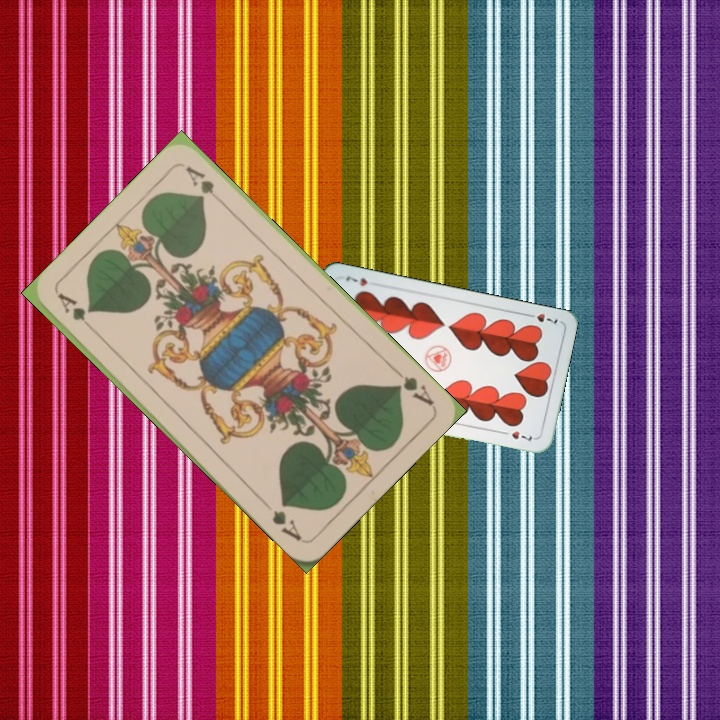GA: (388, 363, 437, 409), (54, 289, 100, 337)
H7: (521, 309, 560, 326)
